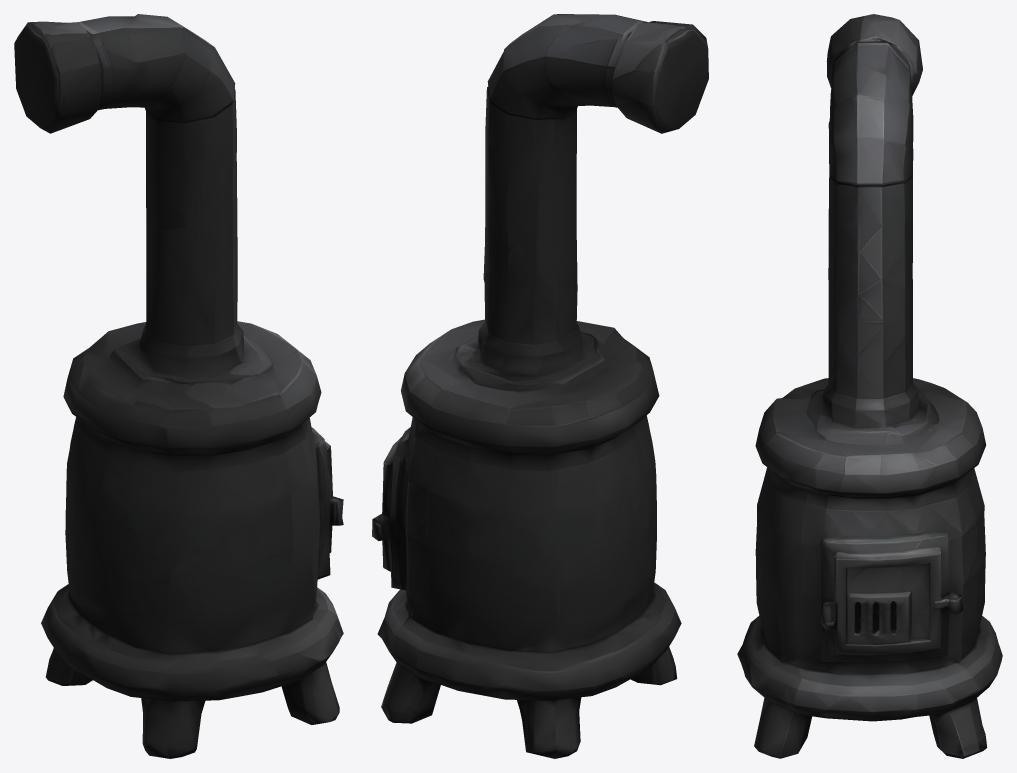
File: wood+stove+3d+model.glb
The picture shows the model from 3 angles, left to right: view 1: azimuth 30°, elevation 25°; view 2: azimuth 150°, elevation 25°; view 3: azimuth 270°, elevation 25°; orthographic projection. The views are drawn at different scales.
Parts seen in each view (by area): view 1: tripo_node_dd712b3a-f22c-4a2f-86c6-36a837bca38b; view 2: tripo_node_dd712b3a-f22c-4a2f-86c6-36a837bca38b; view 3: tripo_node_dd712b3a-f22c-4a2f-86c6-36a837bca38b.
Part boxes in pixels (left/top/right/bottom): tripo_node_dd712b3a-f22c-4a2f-86c6-36a837bca38b: left=14, top=14, right=343, bottom=758; tripo_node_dd712b3a-f22c-4a2f-86c6-36a837bca38b: left=372, top=14, right=708, bottom=758; tripo_node_dd712b3a-f22c-4a2f-86c6-36a837bca38b: left=737, top=14, right=1002, bottom=758.
Size of the model in its own units: 0.4248 by 1 by 0.3784.
Materials: 1 (1 with a texture image).
